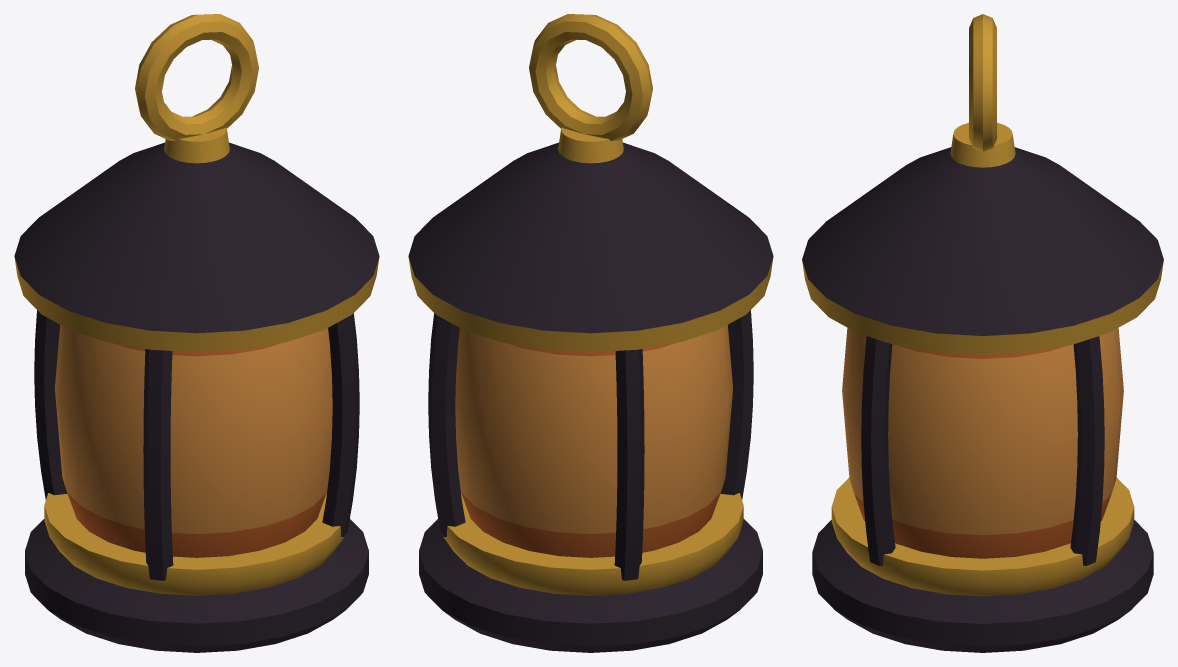
File: Lantern_07.glb
3 renders of one model, left to right at view 1: azimuth 30°, elevation 25°; view 2: azimuth 150°, elevation 25°; view 3: azimuth 270°, elevation 25°, orthographic.
Parts seen in each view (by area): view 1: Lantern_07; view 2: Lantern_07; view 3: Lantern_07.
Boxes of the visible parts, <box> form: Lantern_07: <box>14,14,379,652</box>; Lantern_07: <box>408,14,773,652</box>; Lantern_07: <box>802,14,1163,652</box>.
Bounding box in the file's own units: 1.3 × 2.25 × 1.3.
